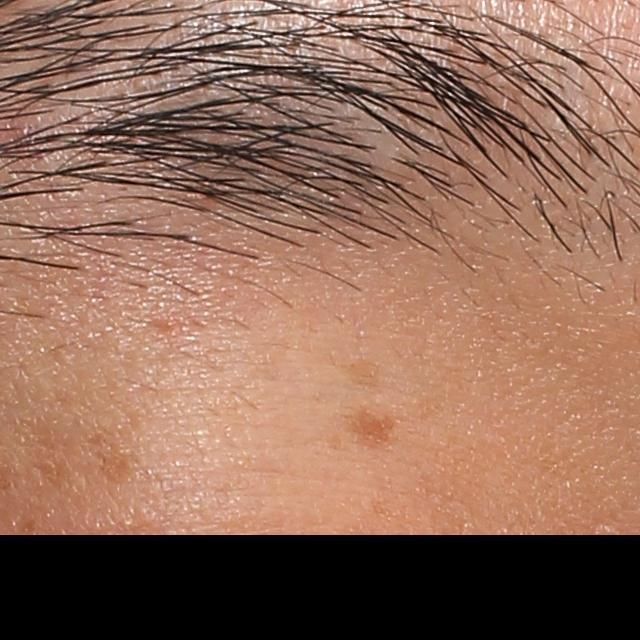melasma: (86, 425, 137, 485), (342, 409, 404, 452)
